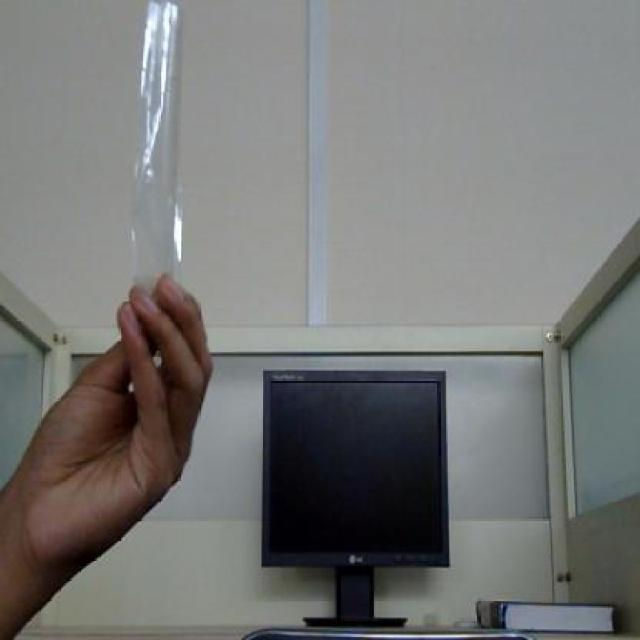Plastic: (115, 3, 204, 311)
